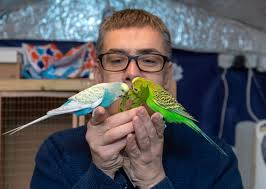budgie: (131, 77, 231, 156), (3, 80, 130, 139)
